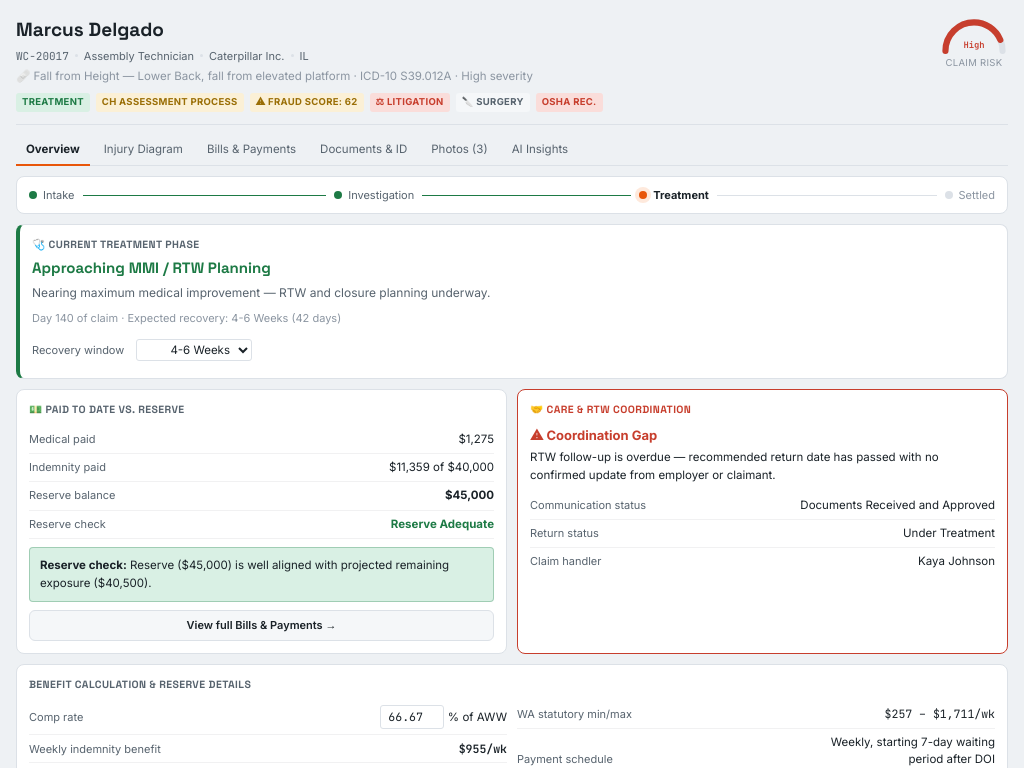
the popover lists every injury, tags the primary and offers ✕ only on the rest
Expected: the header with test id "case-header" is shown, [16, 16, 1008, 124]
Click the tab with test id "tab-injury" at (143, 150), box [94, 134, 193, 166]
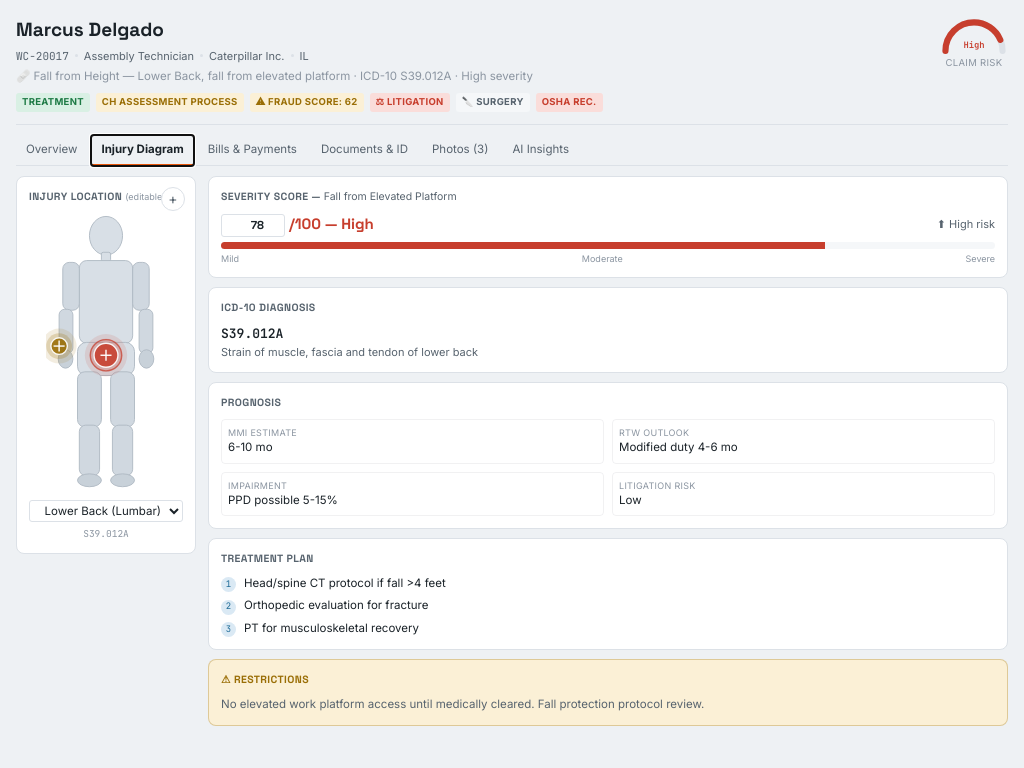
Click the button with test id "injury-add-open" at (173, 199), box [161, 187, 185, 211]
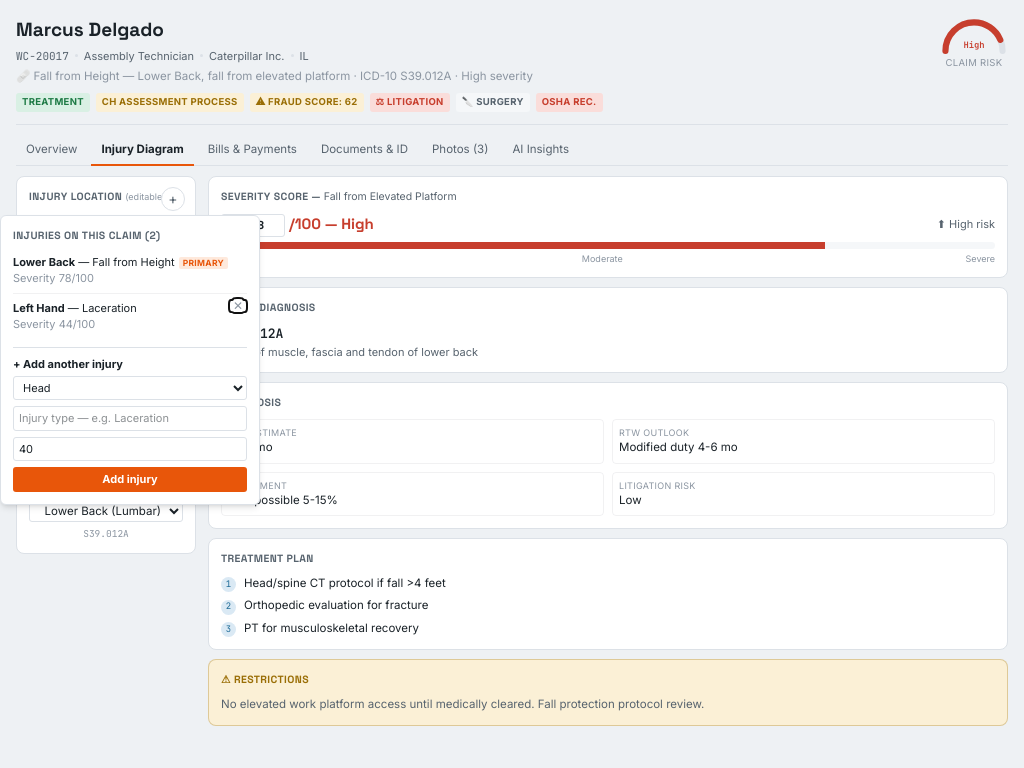
Now the number of list items with test id "injury-summary-row" is 2, box [13, 248, 247, 294]; [13, 294, 247, 339]
Now the text "Primary" is shown, box [179, 257, 228, 269]
